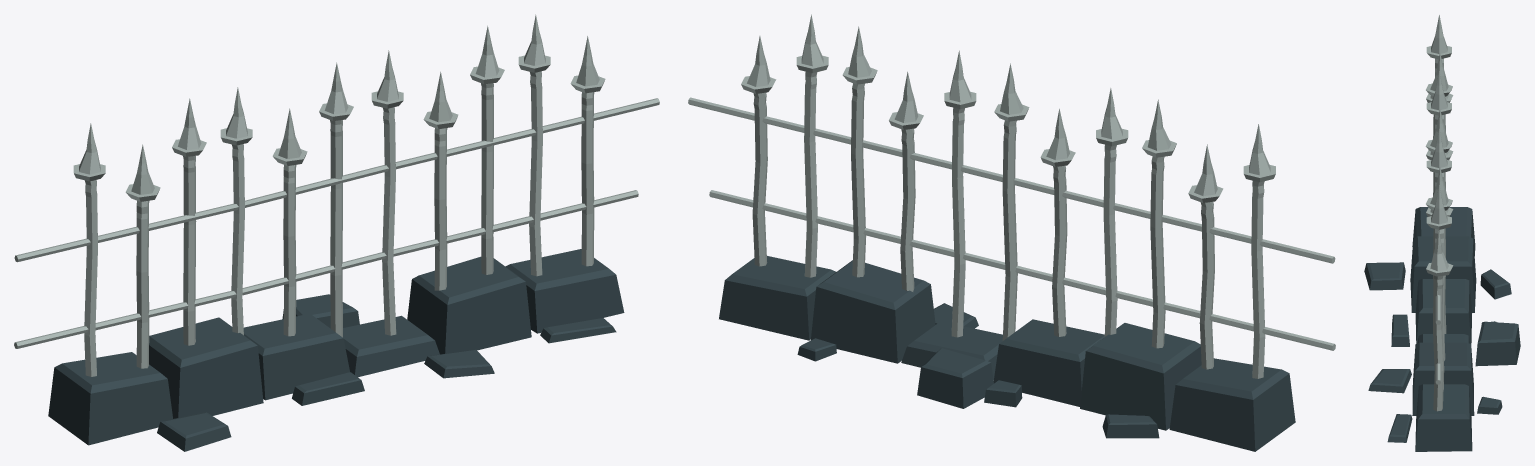
File: Cemetery_fence.fbx
3 views of the same model, side by side, from view 1: azimuth 30°, elevation 25°; view 2: azimuth 150°, elevation 25°; view 3: azimuth 270°, elevation 25° (orthographic). The views are drawn at different scales.
Parts seen in each view (by area): view 1: FenceSection.001; view 2: FenceSection.001; view 3: FenceSection.001.
Part boxes in pixels (box(x1,y1,x2,y2)): FenceSection.001: box(14, 14, 659, 451); FenceSection.001: box(688, 14, 1335, 451); FenceSection.001: box(1364, 15, 1520, 451).
Size of the model in its own units: 17.54 by 7.98 by 4.72.
